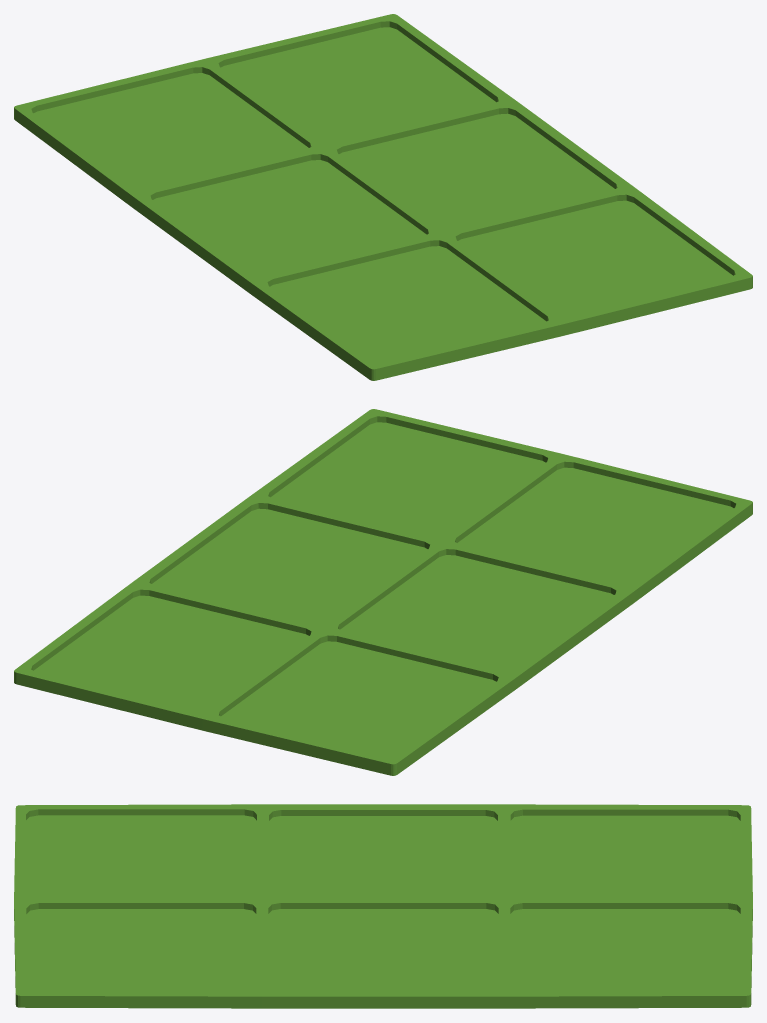
File: plano_final_otra_prueba.gltf
The picture shows the model from 3 angles, top to bottom: view 1: azimuth 30°, elevation 25°; view 2: azimuth 150°, elevation 25°; view 3: azimuth 270°, elevation 25°; orthographic projection. The views are drawn at different scales.
Parts seen in each view (by area): view 1: Cube, Cube.001, Cube.005, Cube.004, Cube.003, Cube.006, Cube.002; view 2: Cube, Cube.001, Cube.005, Cube.004, Cube.006, Cube.003, Cube.002; view 3: Cube, Cube.001, Cube.005, Cube.004, Cube.006, Cube.003, Cube.002.
Part boxes in pixels (x1,y1,x2,y2): Cube: (14,14,752,380); Cube.001: (270,246,546,362); Cube.005: (339,113,614,229); Cube.004: (221,27,496,142); Cube.003: (34,73,308,188); Cube.006: (458,200,732,316); Cube.002: (153,160,426,274); Cube: (14,409,752,775); Cube.001: (457,467,733,583); Cube.005: (152,508,427,624); Cube.004: (33,595,308,711); Cube.006: (270,422,545,537); Cube.003: (221,641,495,756); Cube.002: (340,555,613,669); Cube: (14,804,752,1008); Cube.001: (26,815,256,898); Cube.005: (268,909,498,991); Cube.004: (510,909,740,991); Cube.006: (26,909,256,991); Cube.003: (510,815,740,897); Cube.002: (269,816,497,897).
Bounding box in the file's own units: 7.65 × 0.2213 × 12.43.
